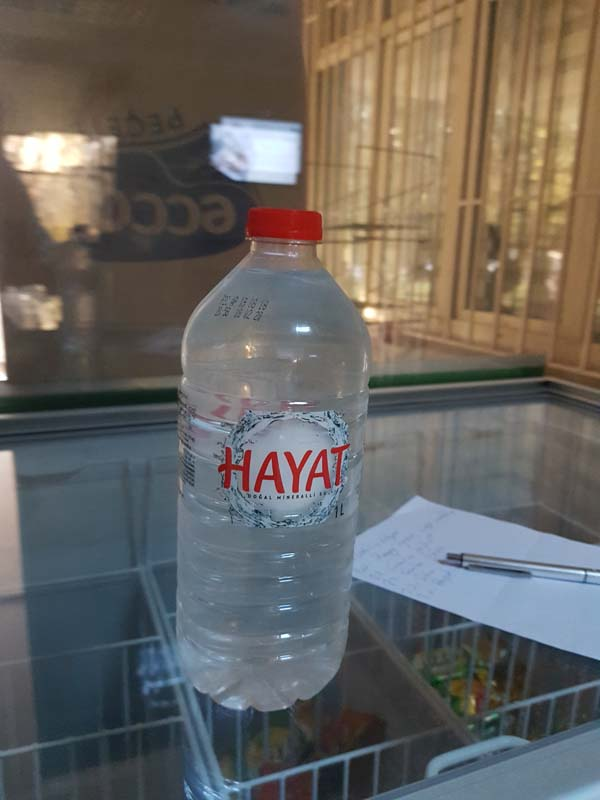saka500mlsu: (175, 202, 376, 712)
